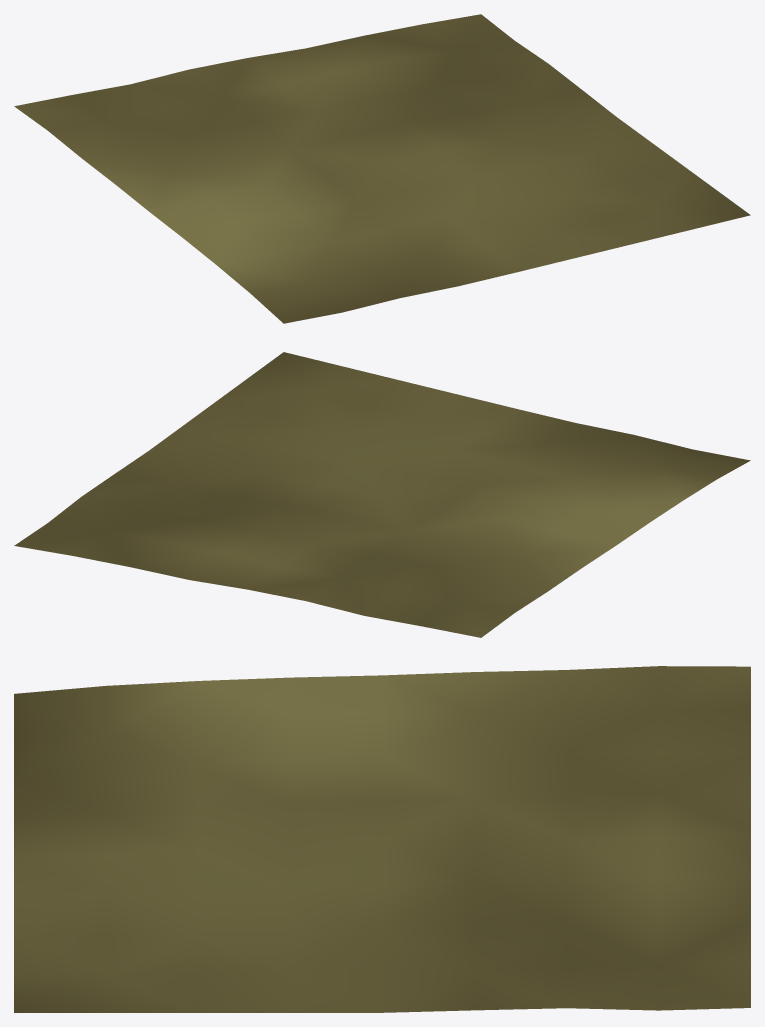
File: terrain_lod2_5_2.obj
The picture shows the model from 3 angles, top to bottom: view 1: azimuth 30°, elevation 25°; view 2: azimuth 150°, elevation 25°; view 3: azimuth 270°, elevation 25°; orthographic projection. The views are drawn at different scales.
Parts seen in each view (by area): view 1: terrain_lod2_5_2; view 2: terrain_lod2_5_2; view 3: terrain_lod2_5_2.
Part boxes in pixels (bbox=[...]): terrain_lod2_5_2: bbox=[14, 14, 750, 323]; terrain_lod2_5_2: bbox=[14, 352, 750, 637]; terrain_lod2_5_2: bbox=[14, 666, 750, 1012].
Bounding box in the file's own units: 128 × 6.76 × 128.
